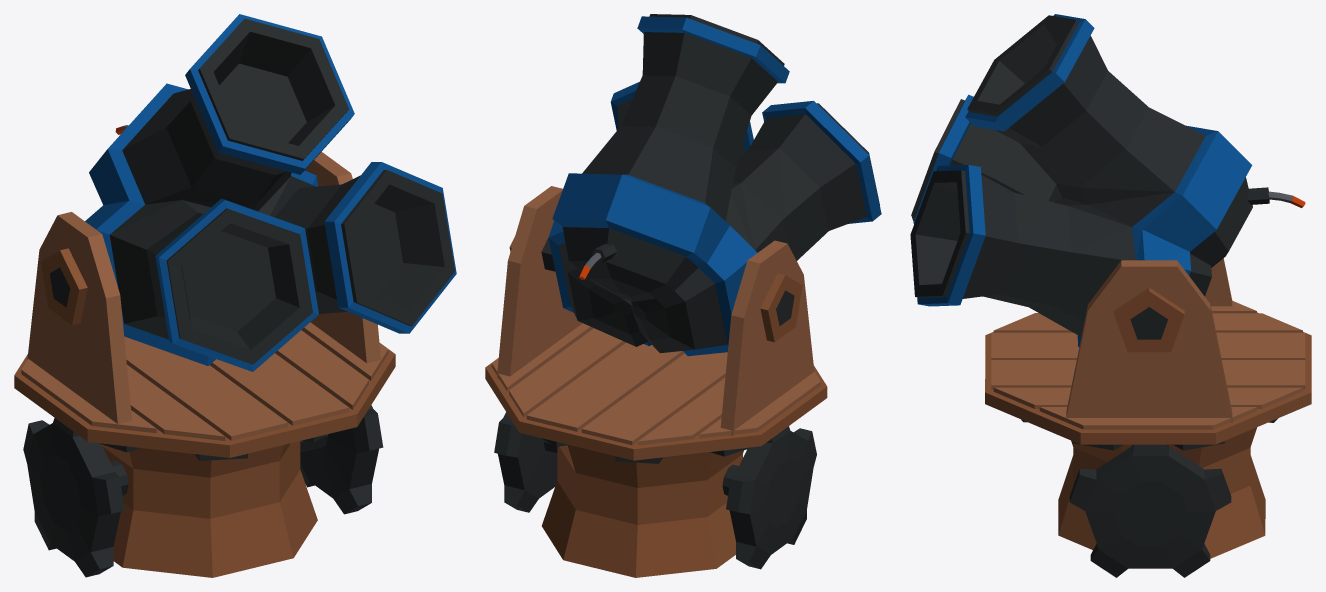
File: Cannon Level 3.FBX
3 renders of one model, left to right at view 1: azimuth 30°, elevation 25°; view 2: azimuth 150°, elevation 25°; view 3: azimuth 270°, elevation 25°, orthographic. The views are drawn at different scales.
Parts seen in each view (by area): view 1: Rifle.003; view 2: Rifle.003; view 3: Rifle.003.
Part boxes in pixels (x1,y1,x2,y2): Rifle.003: (14,14,456,577); Rifle.003: (485,14,881,577); Rifle.003: (910,14,1311,577).
Size of the model in its own units: 195 by 328 by 239.
1 material, 1 textured.
